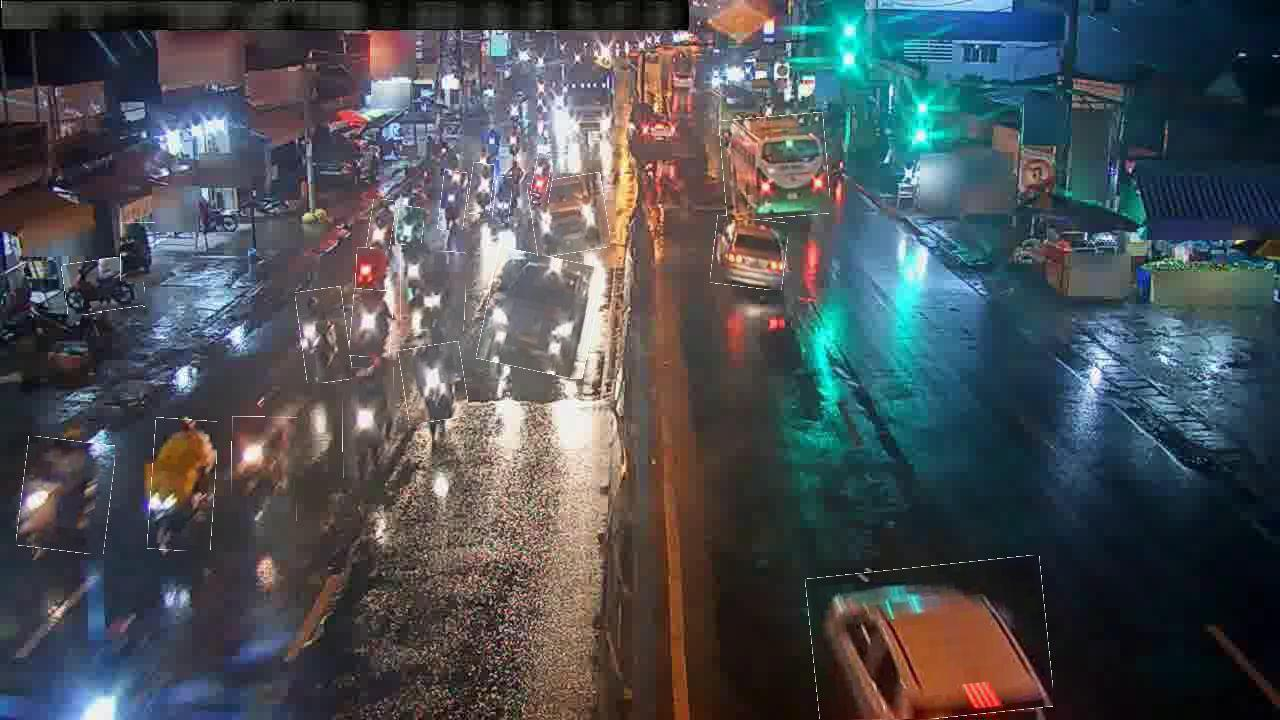14: (721, 114, 829, 219)
container: (808, 561, 1051, 719), (482, 252, 600, 376), (530, 175, 609, 255), (712, 217, 788, 289)
motorbike: (19, 439, 113, 553), (149, 418, 216, 551), (232, 417, 298, 522), (343, 367, 395, 479), (401, 343, 467, 422), (298, 288, 350, 383), (63, 258, 145, 314), (419, 252, 466, 332), (351, 289, 393, 358), (400, 242, 433, 320), (121, 222, 156, 283), (439, 171, 468, 231), (356, 248, 387, 299), (468, 163, 494, 215), (368, 200, 395, 250), (396, 206, 424, 246), (494, 177, 512, 224), (533, 162, 553, 204), (532, 154, 551, 196)
